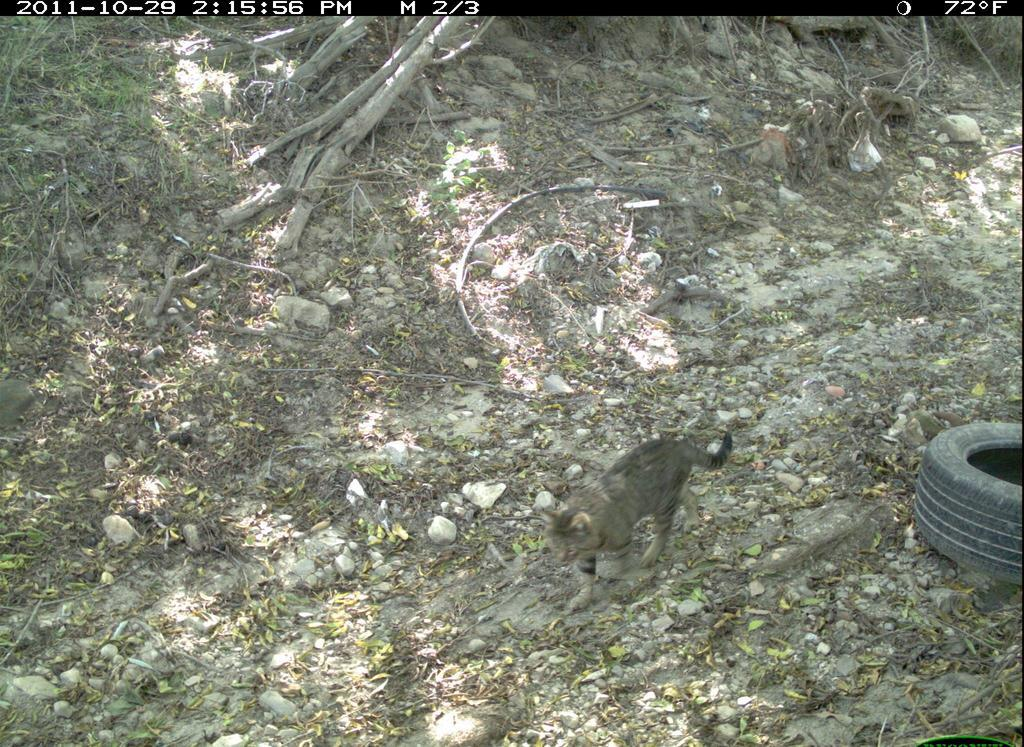cat: (532, 424, 747, 596)
